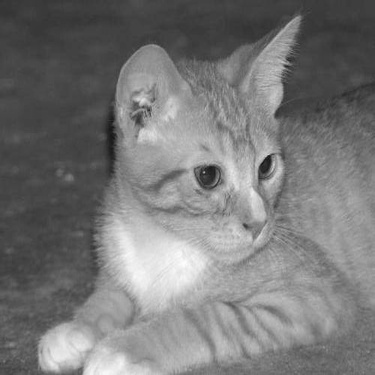cat: (37, 11, 369, 372)
